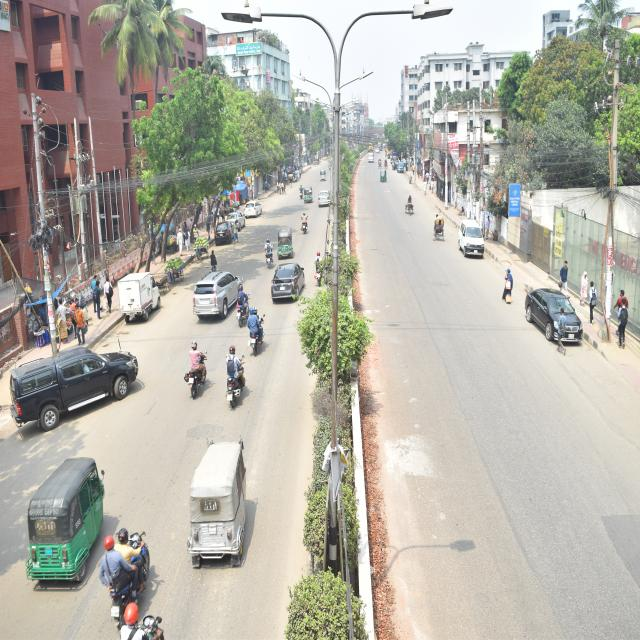car: (9, 351, 142, 430), (525, 286, 586, 345), (192, 270, 243, 320), (213, 218, 236, 248), (226, 208, 248, 230), (242, 198, 264, 220), (316, 187, 334, 212)
microbus: (456, 216, 488, 264)
motorbike: (102, 534, 153, 625), (182, 342, 210, 403), (222, 348, 248, 408), (248, 306, 268, 356), (233, 289, 250, 334), (312, 247, 328, 290), (262, 234, 276, 271), (300, 208, 310, 238)
pickup-van: (117, 272, 163, 325)
